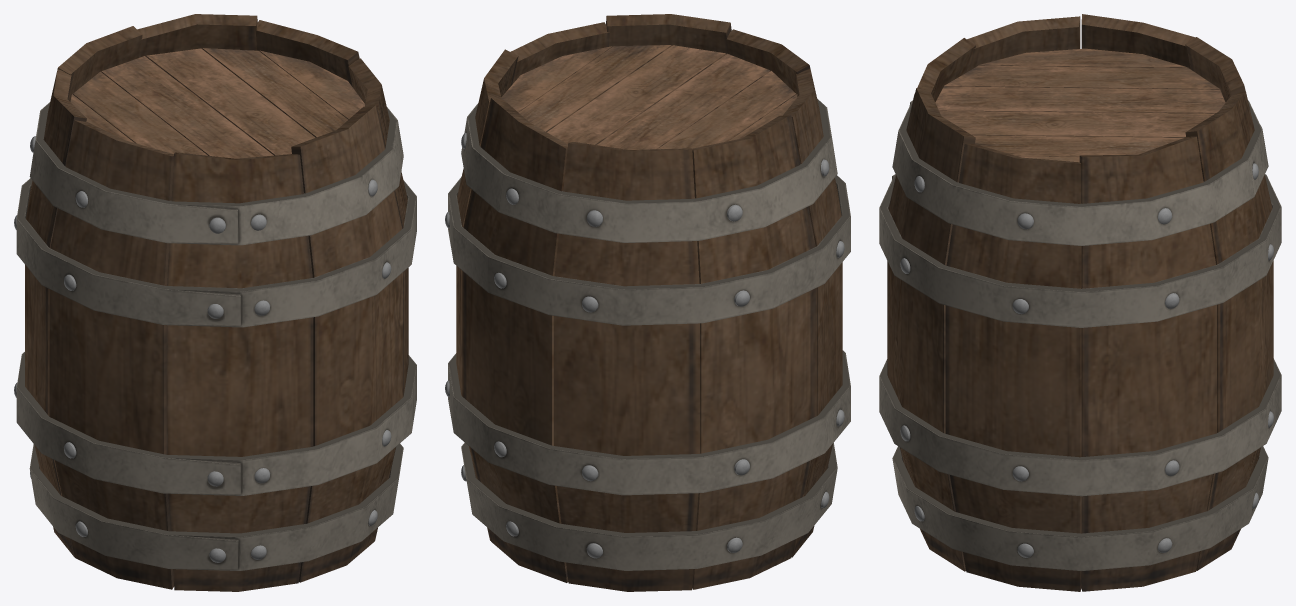
File: Barrel_OBJ.obj
3 views of the same model, side by side, from view 1: azimuth 30°, elevation 25°; view 2: azimuth 150°, elevation 25°; view 3: azimuth 270°, elevation 25° (orthographic).
Visible parts, largest first — view 1: barrel; view 2: barrel; view 3: barrel.
Part boxes in pixels (x1,y1,x2,y2): barrel: [14, 14, 416, 591]; barrel: [445, 14, 850, 591]; barrel: [879, 14, 1281, 591].
Bounding box in the file's own units: 0.7611 × 0.9179 × 0.7611.
